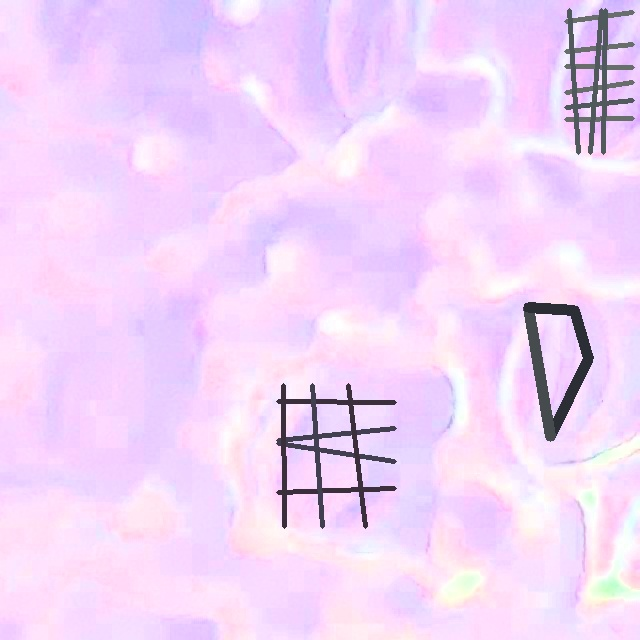close: (276, 383, 396, 528)
open: (564, 9, 634, 154), (524, 306, 592, 441)
